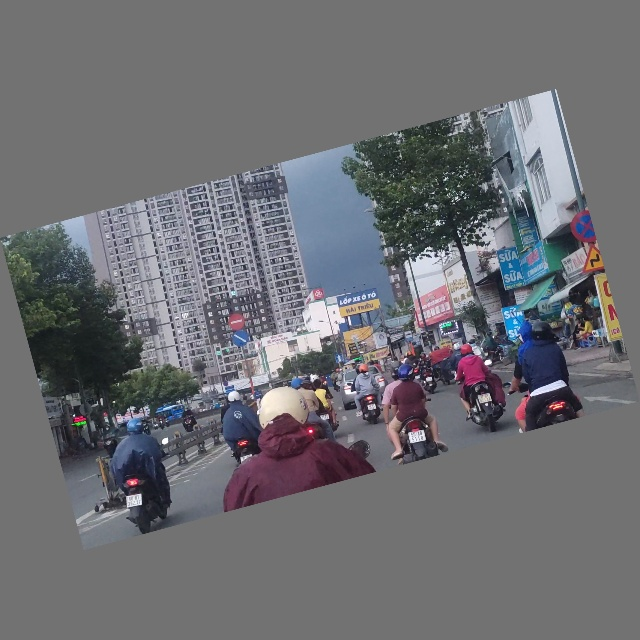I.407a: (334, 354, 344, 364)
I.434a: (403, 330, 414, 343)
P.102: (227, 313, 247, 333)
P.130: (567, 209, 597, 247)
R.302a: (231, 330, 250, 349)
W.202b: (576, 244, 604, 274)
